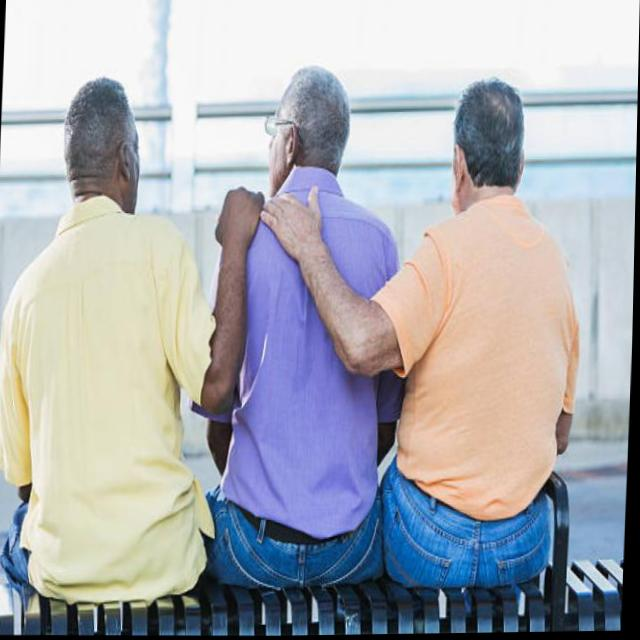no helmet: (441, 64, 538, 236), (261, 58, 359, 222), (60, 70, 148, 234)
